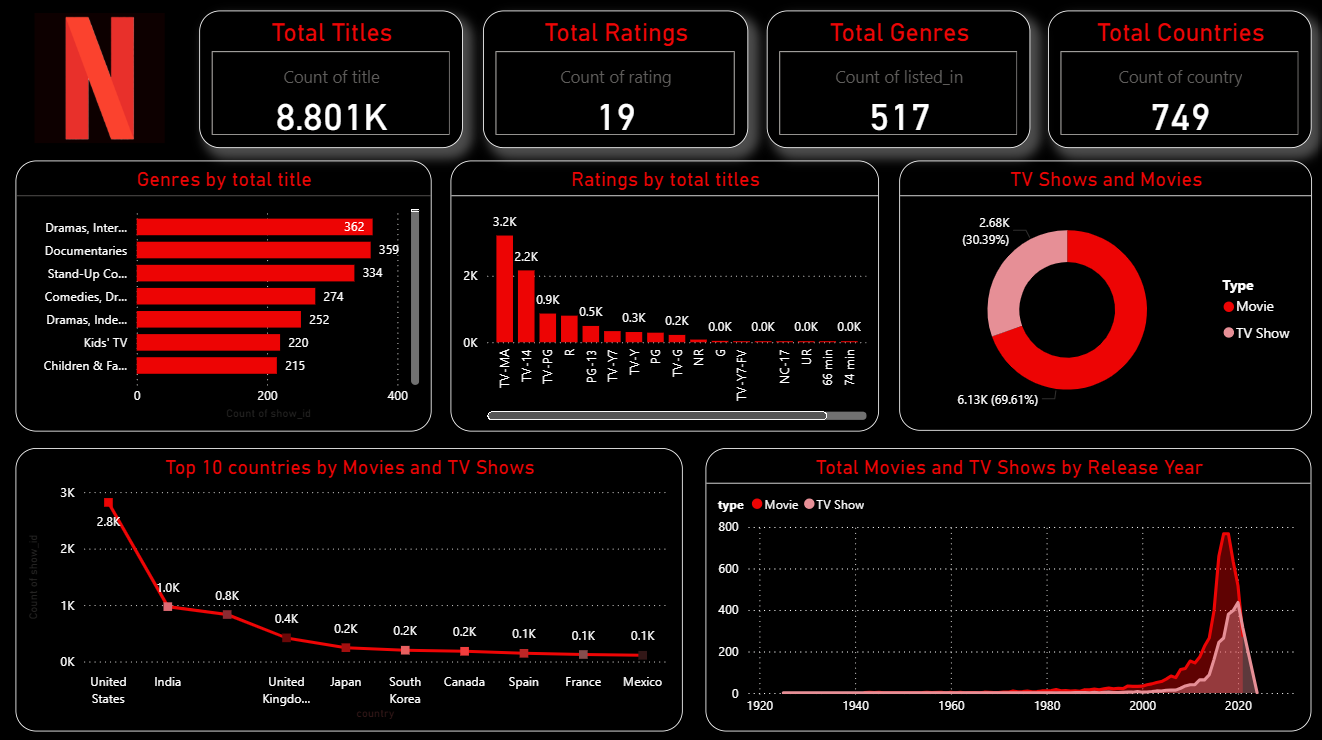

The page's visual inventory and layout, read from the dashboard file:
{"tool":"powerbi","page":{"name":"Page 1","canvas":[1280,720],"ordinal":0},"visuals":[{"type":"donutChart","title":"TV Shows and Movies","fields":{"Y":["Count(netflix_titles.show_id)"],"Category":["netflix_titles.type"]},"box":[869.8,156.8,398.1,260.6],"z":0},{"type":"clusteredColumnChart","title":"Ratings by total titles","fields":{"Category":["netflix_titles.rating"],"Y":["Count(netflix_titles.show_id)"]},"box":[436.7,156.8,413.8,261.8],"z":1000},{"type":"clusteredBarChart","title":"Genres by total title","fields":{"Category":["netflix_titles.listed_in"],"Y":["Count(netflix_titles.show_id)"]},"box":[16.9,156.8,401.7,261.8],"z":2000},{"type":"areaChart","title":"Total Movies and TV Shows by Release Year","fields":{"Category":["netflix_titles.release_year"],"Y":["Count(netflix_titles.show_id)"],"Series":["netflix_titles.type"]},"box":[682.8,434.3,585.1,273.9],"z":3000},{"type":"lineChart","title":"Top 10 countries by Movies and TV Shows","fields":{"Category":["netflix_titles.country"],"Y":["Count(netflix_titles.show_id)"]},"box":[16.9,434.3,644.2,273.9],"z":4000},{"type":"image","box":[16.9,9.7,161.7,135.1],"z":5000},{"type":"cardVisual","title":"Total Ratings","fields":{"Data":["Count(netflix_titles.rating)"]},"box":[468.1,12.1,255.8,132.7],"z":6000},{"type":"cardVisual","title":"Total Countries","fields":{"Data":["Count(netflix_titles.country)"]},"box":[1013.4,12.1,254.6,132.7],"z":7000},{"type":"cardVisual","title":"Total Titles","fields":{"Data":["Count(netflix_titles.title)"]},"box":[194.2,12.1,254.6,132.7],"z":8000},{"type":"cardVisual","title":"Total Genres","fields":{"Data":["Count(netflix_titles.listed_in)"]},"box":[742,12.1,254.6,132.7],"z":9000}]}

Visuals, with their boxes in screenshot pixels (x1, y1, x2, y2), scaled from the page's 1280x720 canvas onto the 1322x740 screenshot:
"TV Shows and Movies" donutChart: left=898, top=161, right=1310, bottom=429
"Ratings by total titles" clusteredColumnChart: left=451, top=161, right=878, bottom=430
"Genres by total title" clusteredBarChart: left=17, top=161, right=432, bottom=430
"Total Movies and TV Shows by Release Year" areaChart: left=705, top=446, right=1310, bottom=728
"Top 10 countries by Movies and TV Shows" lineChart: left=17, top=446, right=683, bottom=728
image: left=17, top=10, right=184, bottom=149
"Total Ratings" cardVisual: left=483, top=12, right=748, bottom=149
"Total Countries" cardVisual: left=1047, top=12, right=1310, bottom=149
"Total Titles" cardVisual: left=201, top=12, right=464, bottom=149
"Total Genres" cardVisual: left=766, top=12, right=1029, bottom=149
